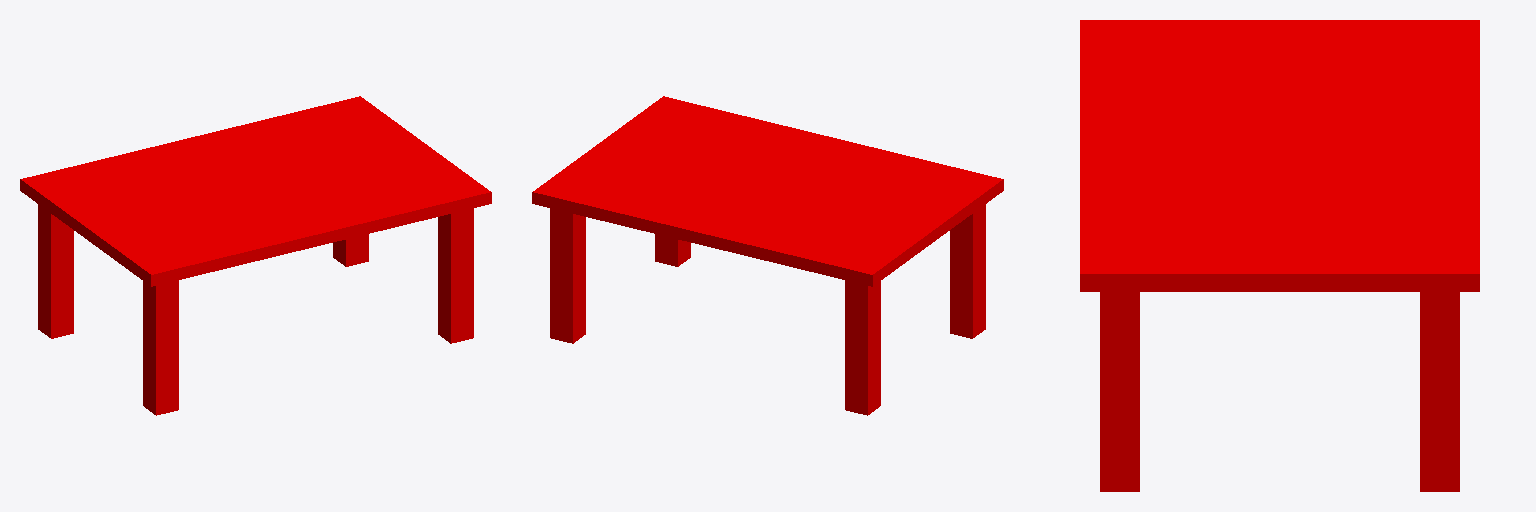
URDF robot description (table.urdf):
<?xml version="0.0" ?>
<robot name="table.urdf">
  <link name="baseLink">
    <contact>
      <lateral_friction value="1.0"/>
    </contact>
    <inertial>
      <origin rpy="0 0 0" xyz="0 0 0"/>
       <mass value=".0"/>
       <inertia ixx="1" ixy="0" ixz="0" iyy="1" iyz="0" izz="1"/>
    </inertial>
    <visual>
      <origin rpy="0 0 0" xyz="0 0 0.6"/>
      <geometry>
        <box size="1.5 1 0.05"/>
      </geometry>
      <material name="tabletop_red">
        <color rgba="1 0 0 1"/>
      </material>
    </visual>
    <collision>
      <origin rpy="0 0 0" xyz="0 0 0.6"/>
      <geometry>
	 	<box size="1.5 1 0.05"/>
      </geometry>
    </collision>
	<visual>
      <origin rpy="0 0 0" xyz="-0.65 -0.4 0.29"/>
      <geometry>
        <box size="0.1 0.1 0.58"/>
      </geometry>
      <material name="leg_red">
        <color rgba="1 0 0 1"/>
      </material>
    </visual>
    <visual>
      <origin rpy="0 0 0" xyz="-0.65 0.4 0.29"/>
      <geometry>
        <box size="0.1 0.1 0.58"/>
      </geometry>
      <material name="leg_red">
        <color rgba="1 0 0 1"/>
      </material>
	  </visual>
    <visual>
      <origin rpy="0 0 0" xyz="0.65 -0.4 0.29"/>
      <geometry>
        <box size="0.1 0.1 0.58"/>
      </geometry>
      <material name="leg_red">
        <color rgba="1 0 0 1"/>
      </material>
	  </visual>
    <visual>
      <origin rpy="0 0 0" xyz="0.65 0.4 0.29"/>
      <geometry>
        <box size="0.1 0.1 0.58"/>
      </geometry>
      <material name="leg_red">
        <color rgba="1 0 0 1"/>
      </material>
    </visual>
  </link>
</robot>

--- Facts derived from the render (not from the file) ---
The picture shows the robot from 3 angles, left to right: view 1: azimuth 30°, elevation 25°; view 2: azimuth 150°, elevation 25°; view 3: azimuth 270°, elevation 25°; orthographic projection.
Robot: table.urdf — 1 links, 0 joints (none); root link baseLink; default pose: all joints at 0.
Links seen in each view (by area): view 1: baseLink; view 2: baseLink; view 3: baseLink.
Link boxes in pixels (left/top/right/bottom): baseLink: left=20, top=96, right=491, bottom=415; baseLink: left=532, top=96, right=1003, bottom=415; baseLink: left=1080, top=20, right=1479, bottom=491.
Size in the robot's own frame: 1.5 by 1 by 0.625 metres.
Geometry: primitives only (box / cylinder / sphere), no mesh files.
